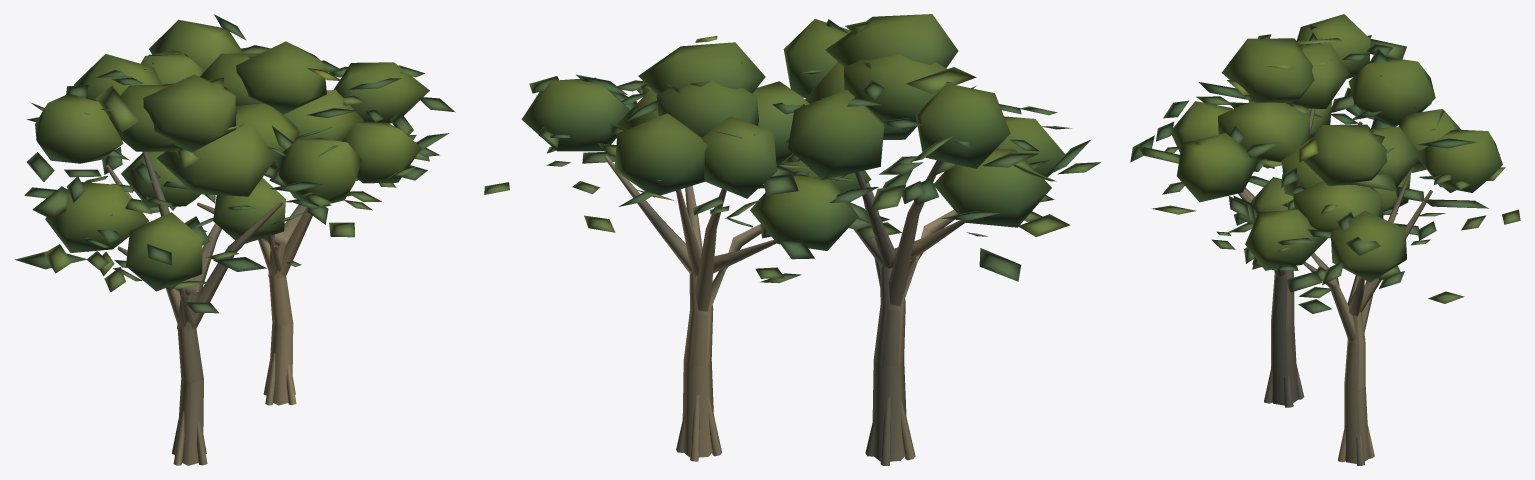
File: ART_IslandWood.lod.glb
The picture shows the model from 3 angles, left to right: view 1: azimuth 30°, elevation 25°; view 2: azimuth 150°, elevation 25°; view 3: azimuth 270°, elevation 25°; orthographic projection. The views are drawn at different scales.
Visible parts, largest first — view 1: ART_IslandWood; view 2: ART_IslandWood; view 3: ART_IslandWood.
Boxes of the visible parts, x1,y1,x2,y2 form: ART_IslandWood: (15,14,455,465); ART_IslandWood: (484,14,1100,465); ART_IslandWood: (1130,14,1520,465).
Bounding box in the file's own units: 18.34 × 15.13 × 15.12.
